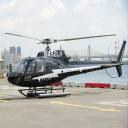helicopter: (6, 34, 128, 98)
